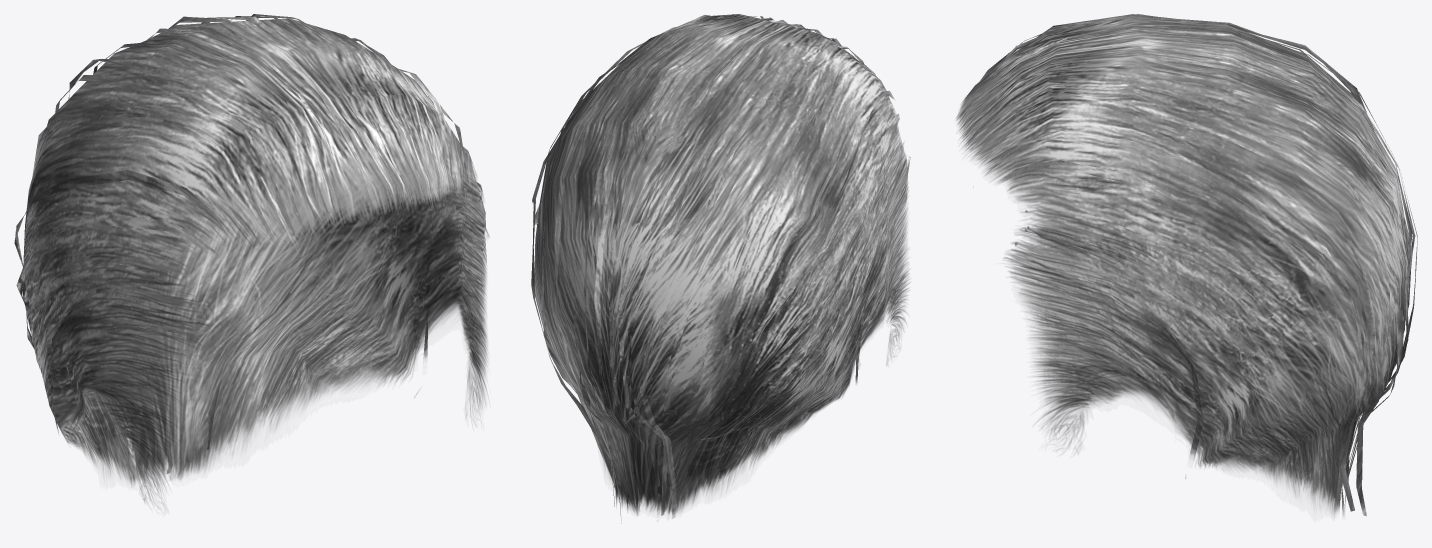
Rendered from hair_short04.gltf.
3 renders of one model, left to right at view 1: azimuth 30°, elevation 25°; view 2: azimuth 150°, elevation 25°; view 3: azimuth 270°, elevation 25°, orthographic. The views are drawn at different scales.
Visible parts, largest first — view 1: hair_short04; view 2: hair_short04; view 3: hair_short04.
Part boxes in pixels (x1,y1,x2,y2): hair_short04: (14, 14, 489, 507); hair_short04: (531, 14, 910, 523); hair_short04: (956, 14, 1417, 517).
Bounding box in the file's own units: 0.1507 × 0.2004 × 0.1754.
Materials: 1 (1 with a texture image).
